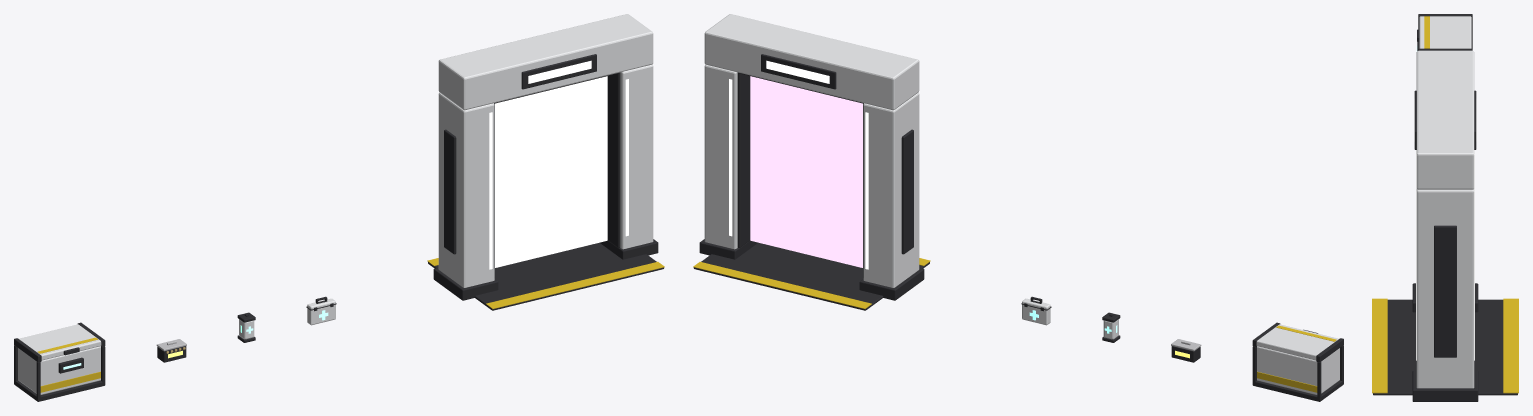
File: props.glb
3 renders of one model, left to right at view 1: azimuth 30°, elevation 25°; view 2: azimuth 150°, elevation 25°; view 3: azimuth 270°, elevation 25°, orthographic. The views are drawn at different scales.
Visible parts, largest first — view 1: Gate_Armor, Gate_Field, Gate_Frame, Crate_Body, Gate_Light, Crate_LidShell, Gate_Hazard, Crate_Frame; view 2: Gate_Armor, Gate_Field, Gate_Frame, Crate_Body, Gate_Light, Crate_LidShell, Gate_Hazard, Crate_Frame; view 3: Gate_Armor, Gate_Frame, Gate_Hazard, Crate_LidShell, Gate_Light, Crate_LidFrame, Crate_LidBand.
Part boxes in pixels (<box>): Gate_Armor: <box>438,14,653,287</box>; Gate_Field: <box>495,76,607,267</box>; Gate_Frame: <box>428,54,663,310</box>; Crate_Body: <box>18,346,100,394</box>; Gate_Light: <box>489,60,628,269</box>; Crate_LidShell: <box>19,324,101,360</box>; Gate_Hazard: <box>427,258,664,308</box>; Crate_Frame: <box>14,345,105,401</box>; Gate_Armor: <box>704,14,919,287</box>; Gate_Field: <box>750,76,862,267</box>; Gate_Frame: <box>694,54,929,310</box>; Crate_Body: <box>1257,346,1339,394</box>; Gate_Light: <box>729,60,868,269</box>; Crate_LidShell: <box>1256,324,1338,360</box>; Gate_Hazard: <box>693,258,930,308</box>; Crate_Frame: <box>1252,345,1343,401</box>; Gate_Armor: <box>1416,50,1474,388</box>; Gate_Frame: <box>1373,90,1517,401</box>; Gate_Hazard: <box>1372,298,1518,393</box>; Crate_LidShell: <box>1419,16,1471,48</box>; Gate_Light: <box>1414,98,1476,360</box>; Crate_LidFrame: <box>1417,14,1472,50</box>; Crate_LidBand: <box>1424,16,1429,48</box>.
Bounding box in the file's own units: 8.26 × 2.82 × 1.52.
